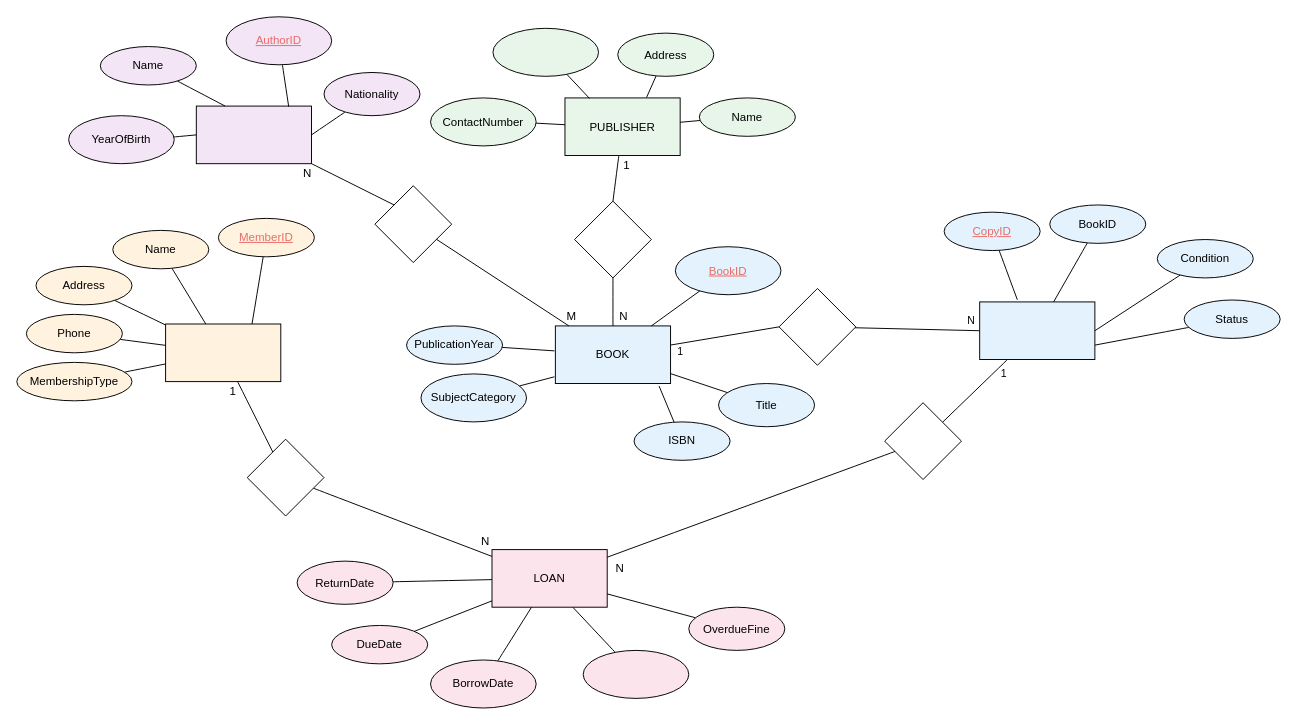
This 1297x725 diagram has some shape labels left out. Each missing label, with the box of its shape:
AUTHOR: (195, 105, 312, 164)
BOOK_COPY: (979, 301, 1095, 360)
Has: (778, 288, 856, 365)
LoanID: (582, 649, 689, 698)
MEMBER: (165, 323, 281, 382)
Processes: (246, 438, 324, 516)
PublisherID: (492, 27, 599, 76)
Publishes: (574, 200, 651, 278)
Records: (884, 402, 961, 480)
Writes: (374, 185, 452, 263)
